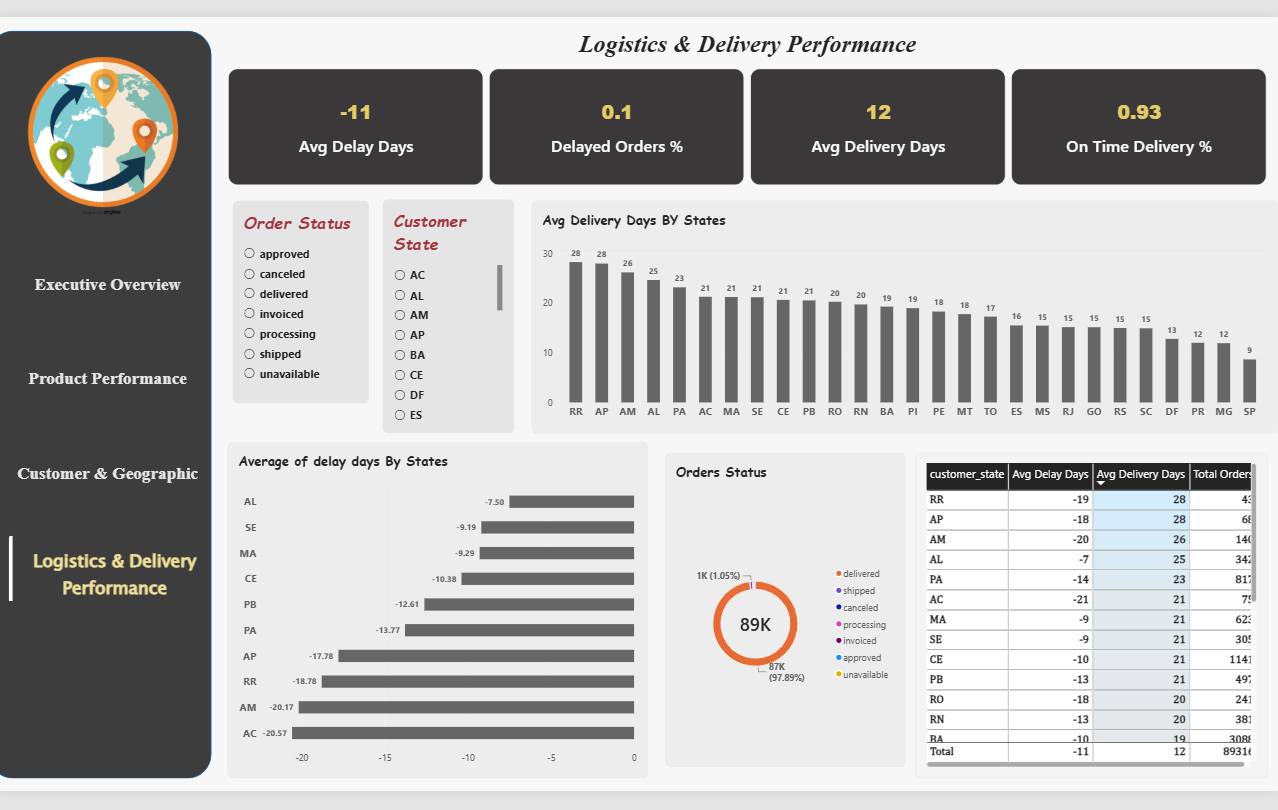

What the dashboard file says about the page in this screenshot:
{"tool":"powerbi","page":{"name":"Logistics & Delivery Performance","canvas":[2000,1200],"ordinal":3},"visuals":[{"type":"textbox","box":[345.2,18.5,1654.3,69.5],"z":0},{"type":"shape","box":[0,20.6,345.2,1160.4],"z":1},{"type":"image","box":[22.5,43.2,300.7,271.7],"z":2},{"type":"cardVisual","fields":{"Data":["df_OrderItems.Avg Delay Days","df_Customers.Delayed Orders %","df_Orders.Avg Delivery Days","df_Customers.On Time Delivery %"]},"box":[370.9,79.3,1614.5,182.2],"z":3},{"type":"columnChart","title":"Avg Delivery Days BY States","fields":{"Category":["df_Customers.customer_state"],"Y":["df_Orders.Avg Delivery Days"]},"box":[841.7,285.1,1157.9,360.7],"z":4},{"type":"barChart","title":"Average of delay days By States","fields":{"Category":["df_Customers.customer_state"],"Y":["Avg(df_Orders.delay days)"]},"box":[370.4,659.4,651.7,521.7],"z":6},{"type":"donutChart","title":"Orders Status","fields":{"Category":["df_Orders.order_status"],"Y":["df_Customers.Total Orders"]},"box":[1049.3,676.9,373,486.6],"z":7},{"type":"tableEx","fields":{"Values":["df_Customers.customer_state","df_OrderItems.Avg Delay Days","df_Orders.Avg Delivery Days","df_Customers.Total Orders"]},"box":[1437.2,676.9,546.9,504.3],"z":8},{"type":"listSlicer","title":"Customer State","fields":{"Values":["df_Customers.customer_state"]},"box":[610.9,283.2,203.6,362.7],"z":10},{"type":"listSlicer","title":"Order Status","fields":{"Values":["df_Orders.order_status"]},"box":[378.2,285.1,211.4,314.2],"z":11},{"type":"pageNavigator","box":[11.6,345.2,345.2,583.8],"z":12}]}

Visuals, with their boxes on the page's 2000x1200 design canvas (x1, y1, x2, y2). These are canvas units, not pixel positions in the 1278x810 screenshot, which may show the page scaled, cropped or inside an application window:
textbox: bbox=(345, 18, 2000, 88)
shape: bbox=(0, 21, 345, 1181)
image: bbox=(22, 43, 323, 315)
cardVisual - df_OrderItems.Avg Delay Days x df_Customers.Delayed Orders %: bbox=(371, 79, 1985, 262)
"Avg Delivery Days BY States" columnChart: bbox=(842, 285, 2000, 646)
"Average of delay days By States" barChart: bbox=(370, 659, 1022, 1181)
"Orders Status" donutChart: bbox=(1049, 677, 1422, 1164)
tableEx - df_Customers.customer_state x df_OrderItems.Avg Delay Days: bbox=(1437, 677, 1984, 1181)
"Customer State" listSlicer: bbox=(611, 283, 814, 646)
"Order Status" listSlicer: bbox=(378, 285, 590, 599)
pageNavigator: bbox=(12, 345, 357, 929)
